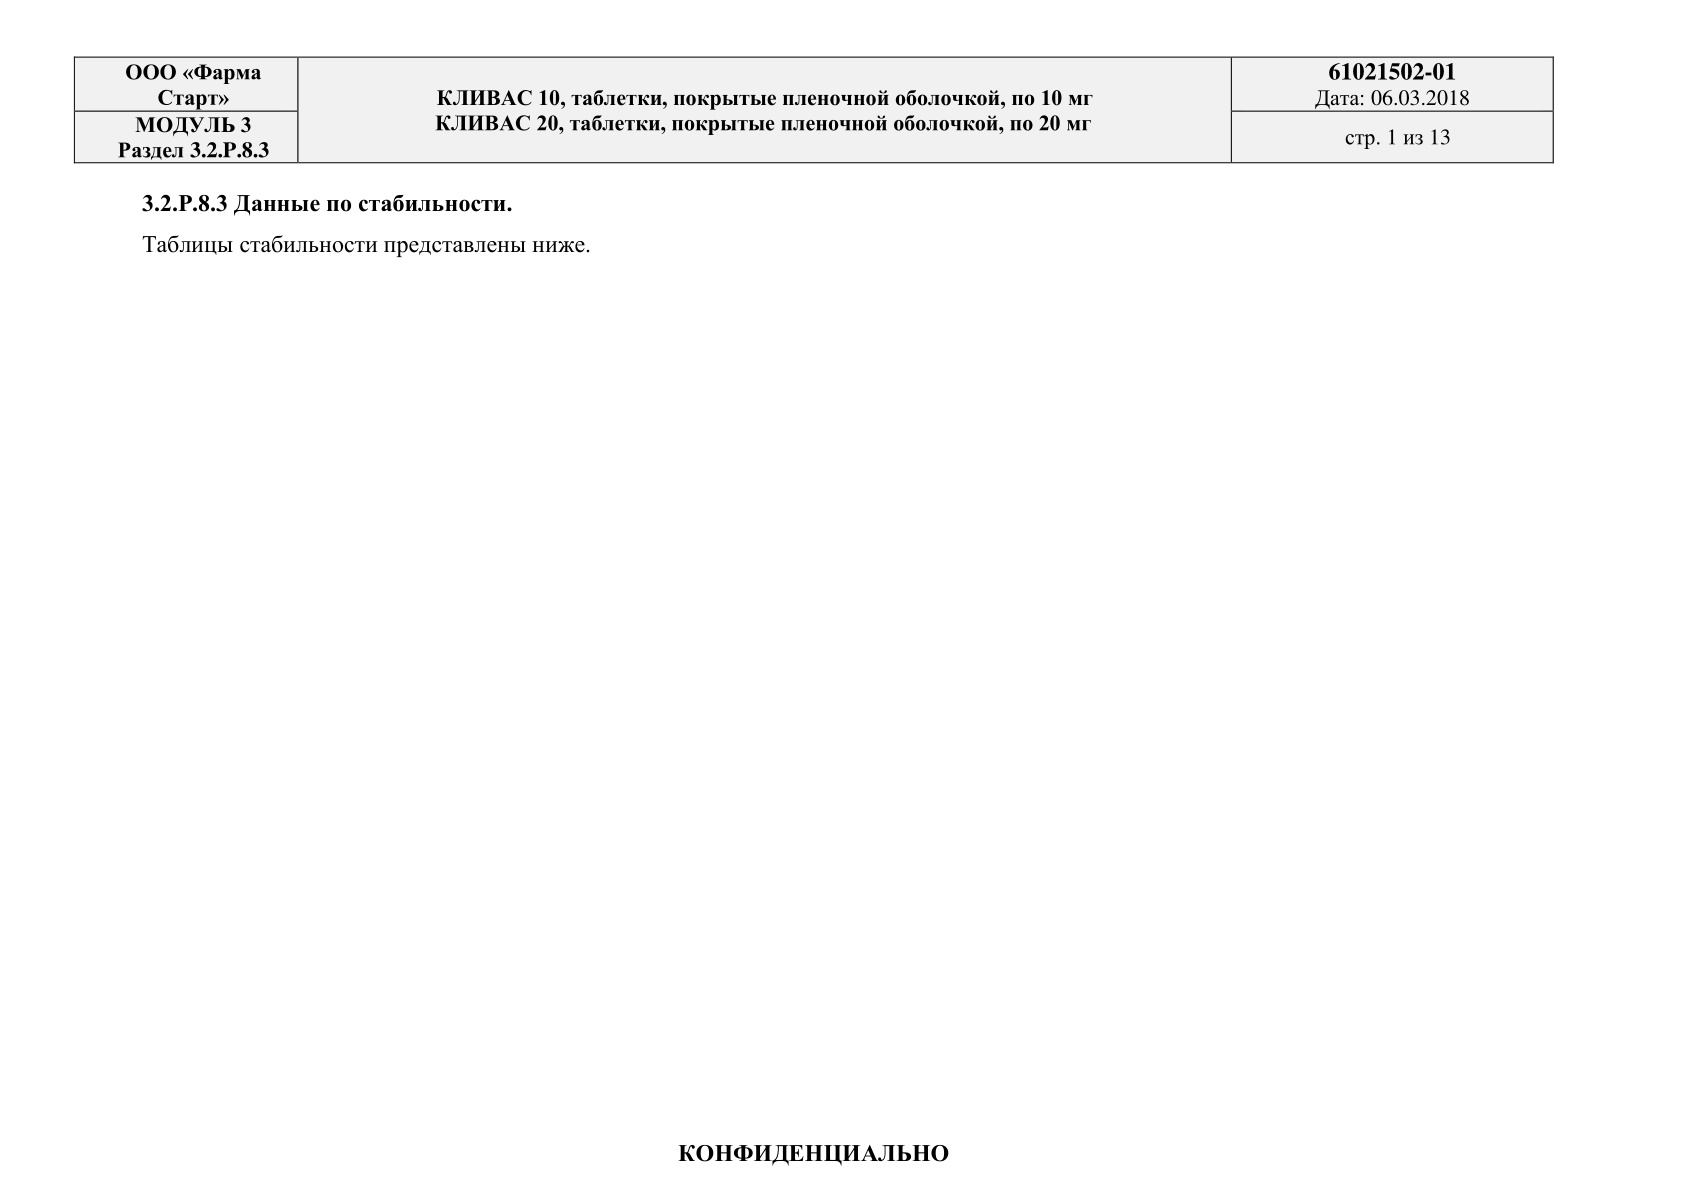merged_cells: (72, 55, 1554, 164)
